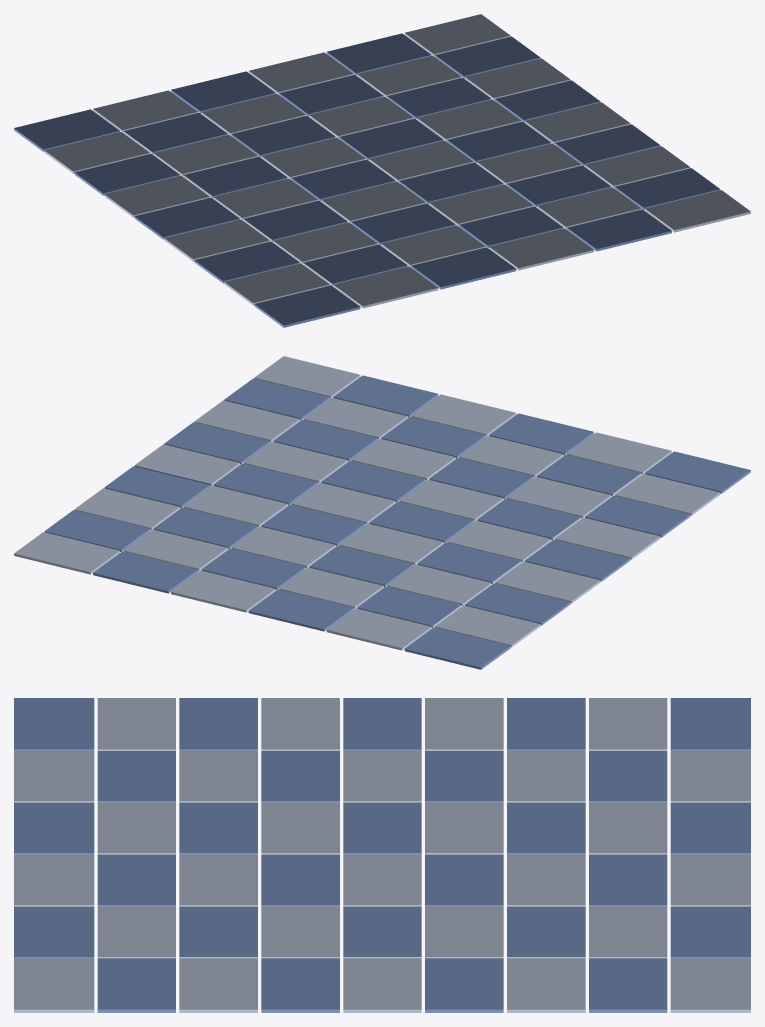
Rendered from Floor 8.fbx.
3 views of the same model, one above another, from view 1: azimuth 30°, elevation 25°; view 2: azimuth 150°, elevation 25°; view 3: azimuth 270°, elevation 25° (orthographic). The views are drawn at different scales.
Parts seen in each view (by area): view 1: Node 0; view 2: Node 0; view 3: Node 0.
Part boxes in pixels (x1,y1,x2,y2): Node 0: (14,14,750,327); Node 0: (14,356,750,669); Node 0: (14,698,750,1012).
Size of the model in its own units: 5.21 by 0.0254 by 5.21.
